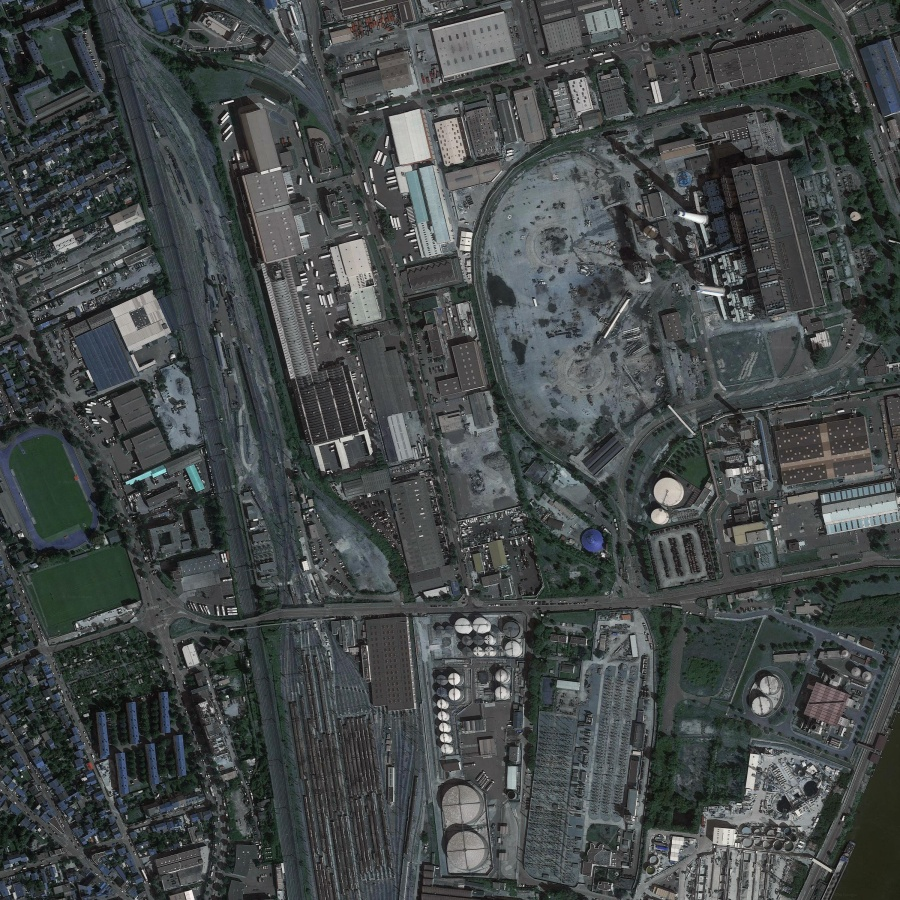PowerPlant: (602, 124, 806, 524)
